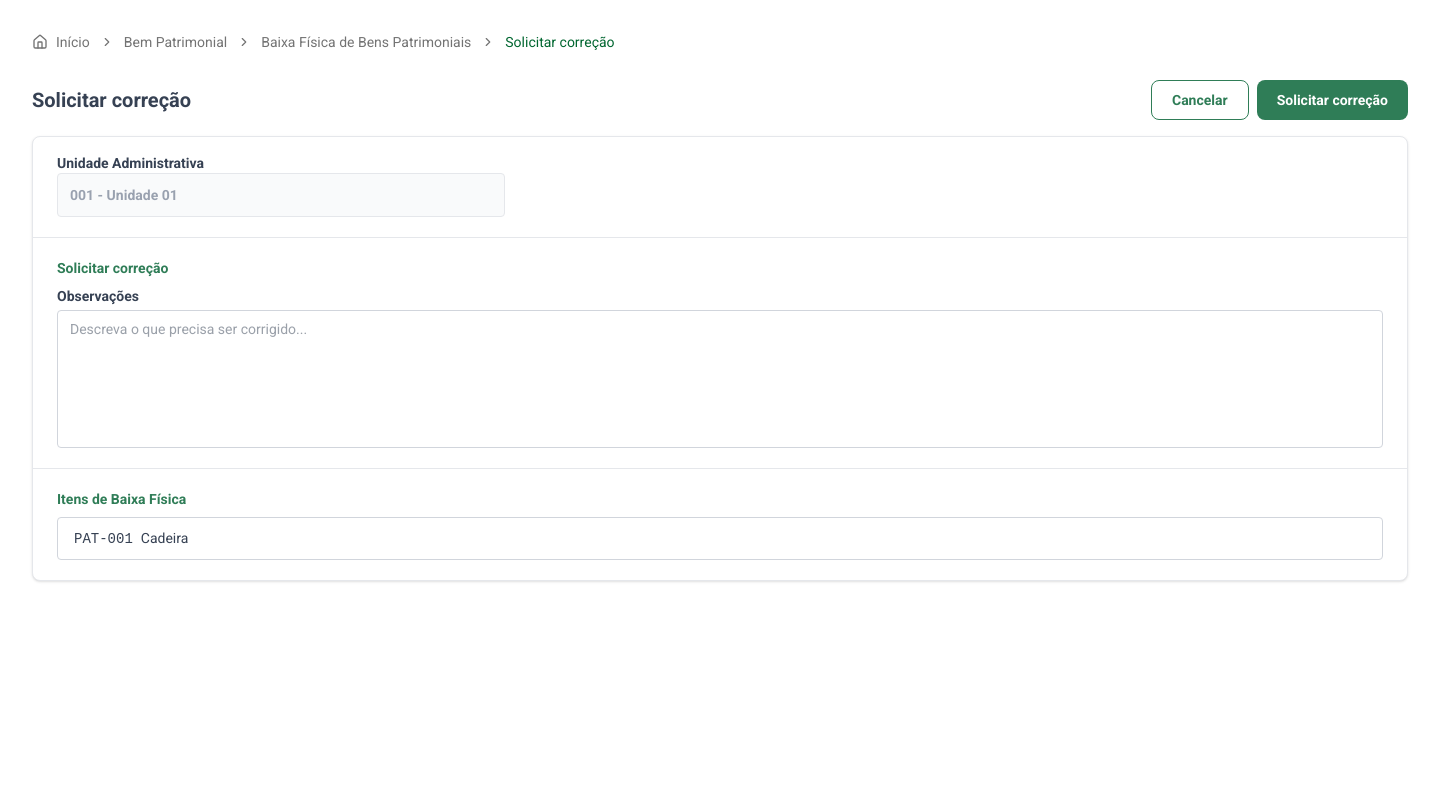
Test case: SolicitarCorrecaoPage › exibe erro retornado pelo serviço
The width and height of the screenshot is (1440, 810).
Type "Corrigir item" into the text box labelled "Observações".
click(720, 379); type("Corrigir item")  # box left=57, top=310, right=1383, bottom=448
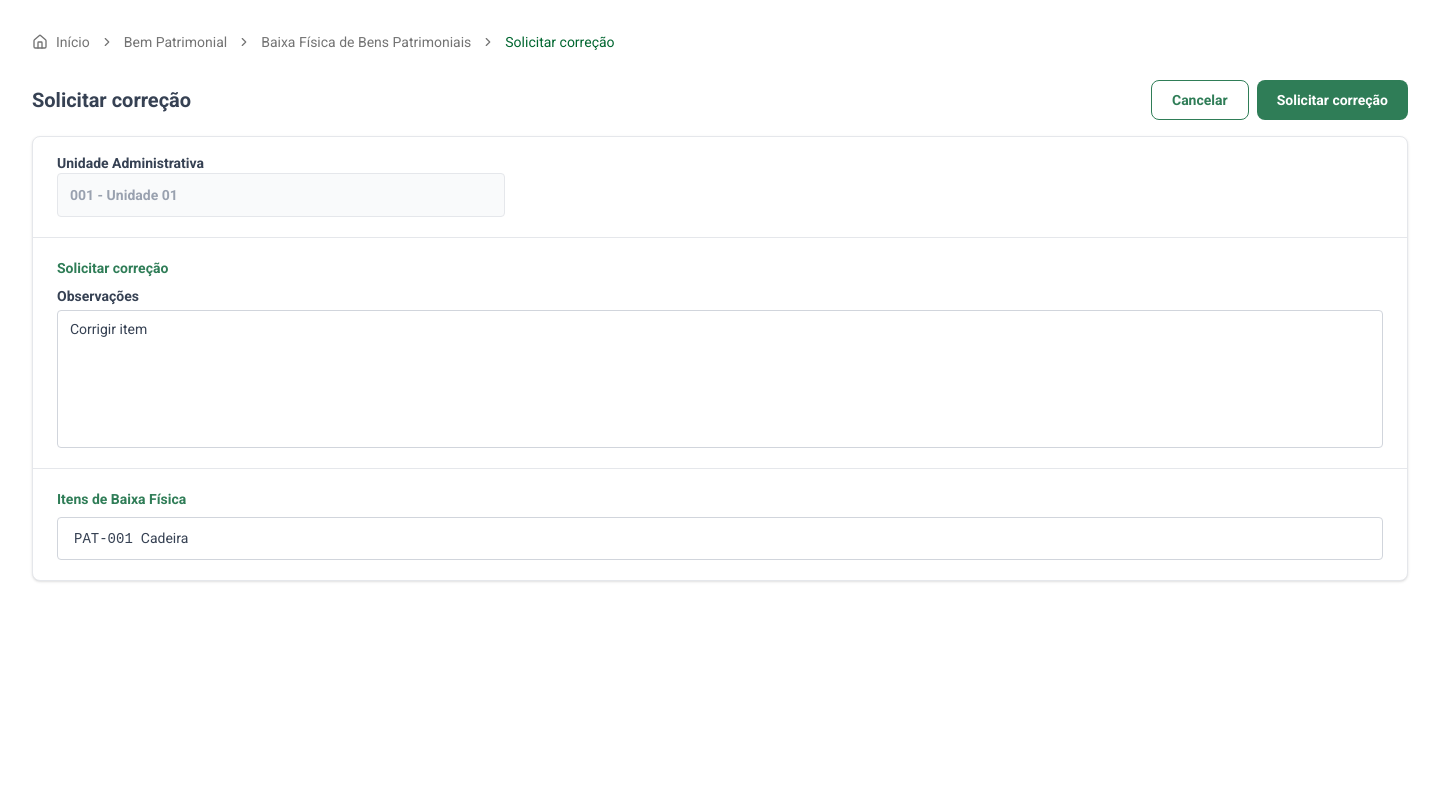
Click the button "Solicitar correção".
click(1332, 100)  # box left=1257, top=80, right=1408, bottom=120
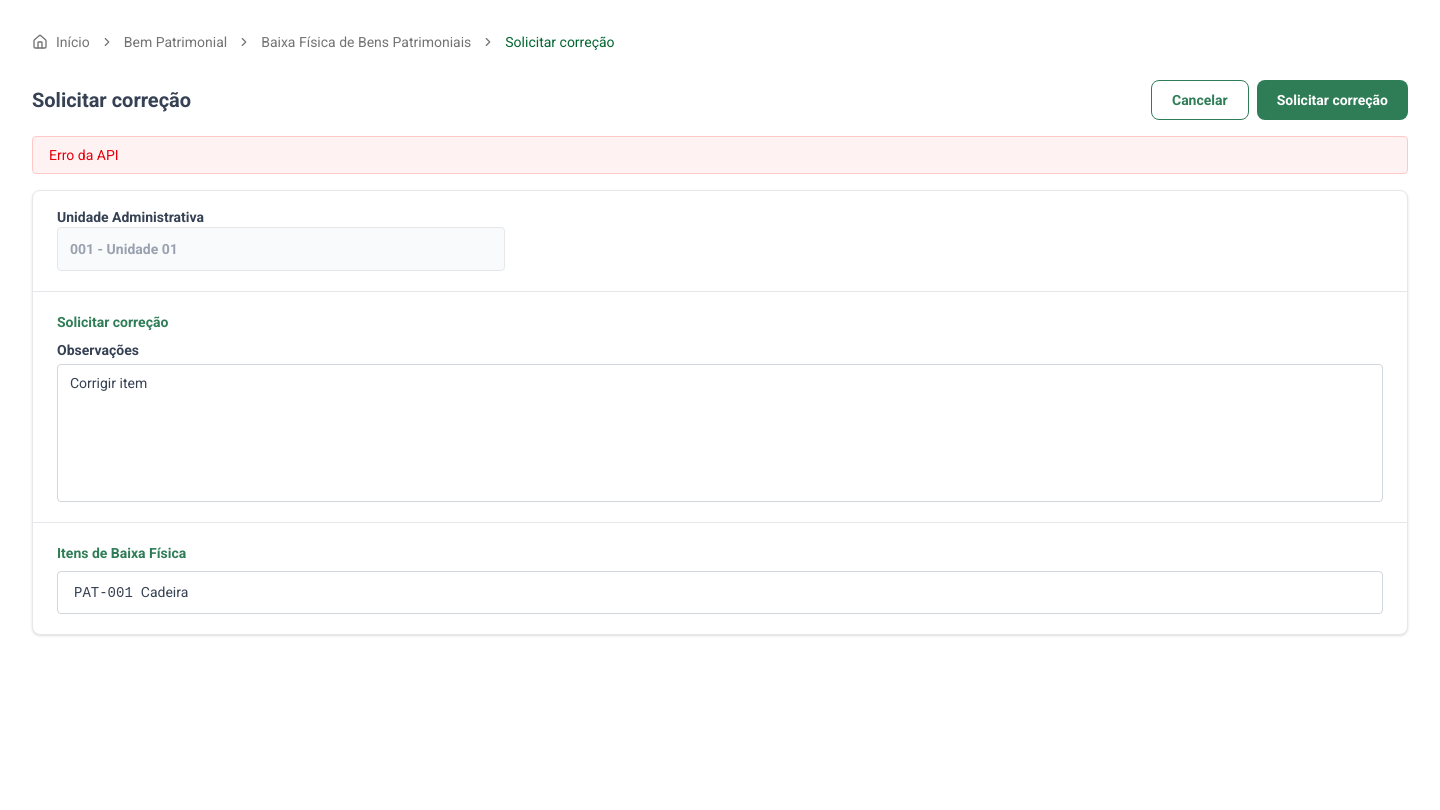
Result: the message reads "Erro da API" at left=49, top=147, right=118, bottom=163
